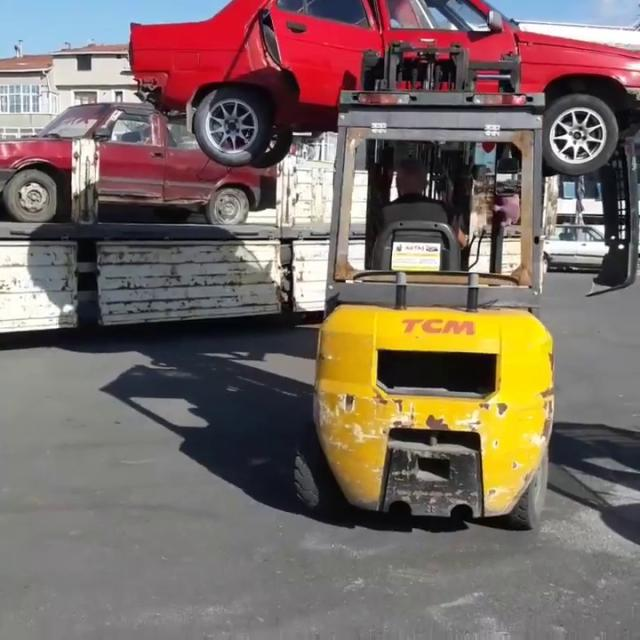ForkLift: (295, 91, 558, 532)
Human: (358, 144, 491, 307)
